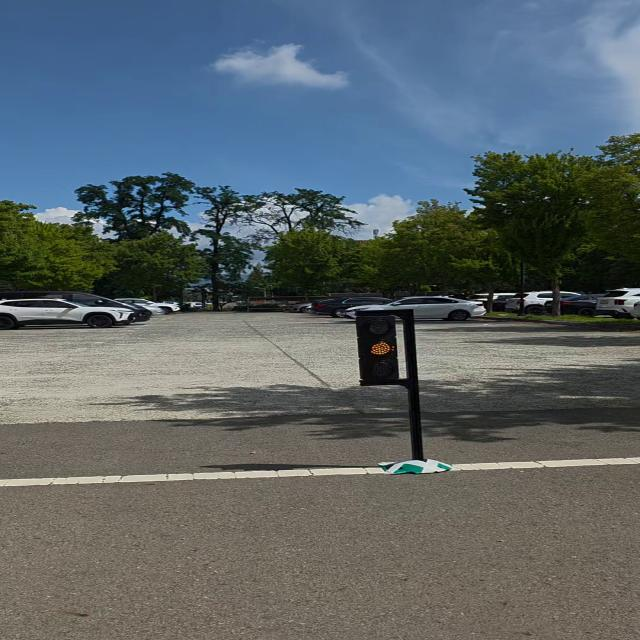yellow: (352, 314, 404, 388)
